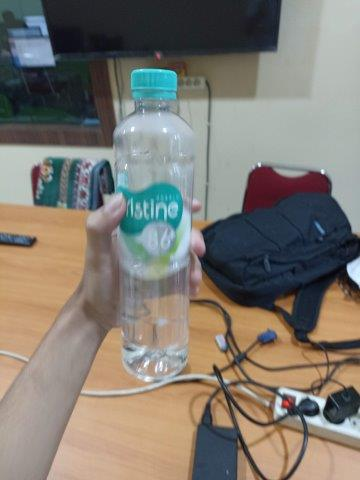botolplastik: (111, 68, 196, 382)
